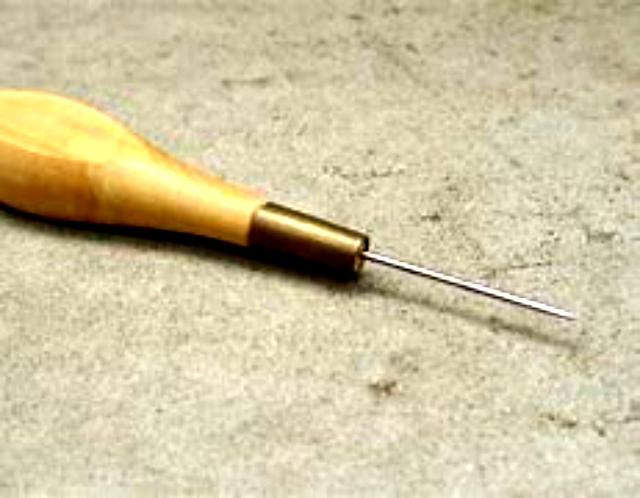ice pick: (0, 83, 576, 335)
